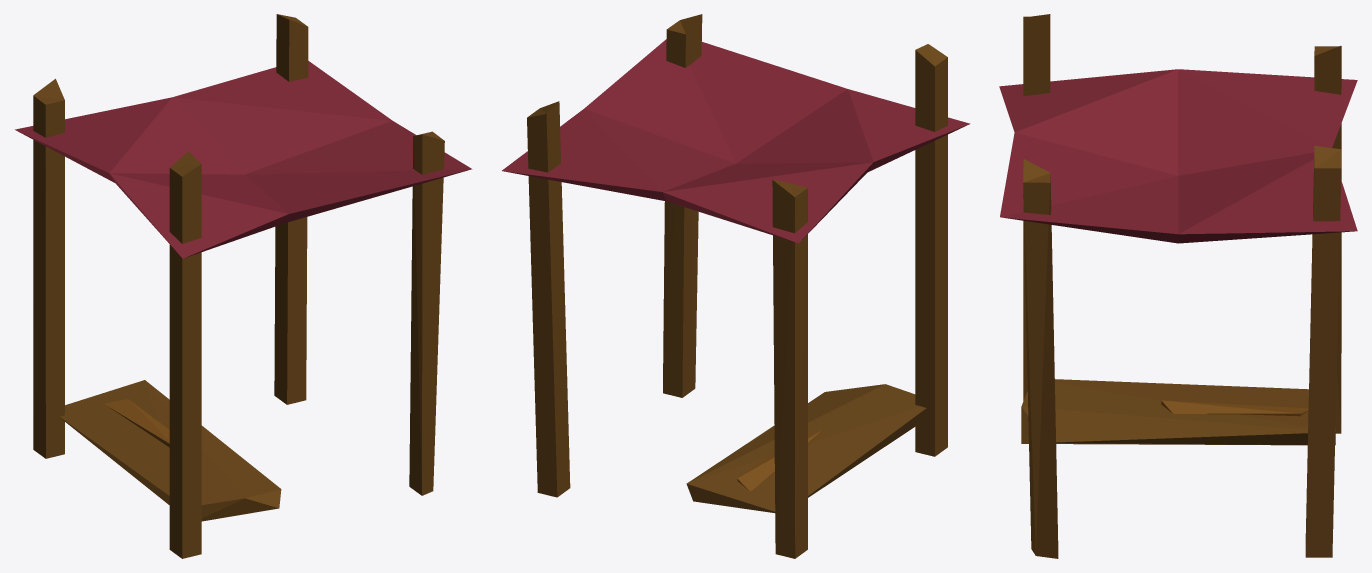
The model's file is Flat_Tent_02.fbx.
3 views of the same model, side by side, from view 1: azimuth 30°, elevation 25°; view 2: azimuth 150°, elevation 25°; view 3: azimuth 270°, elevation 25° (orthographic). The views are drawn at different scales.
Visible parts, largest first — view 1: Tent_02; view 2: Tent_02; view 3: Tent_02.
Part boxes in pixels (x1,y1,x2,y2): Tent_02: (15,14,472,558); Tent_02: (502,14,970,558); Tent_02: (999,14,1357,558).
Size of the model in its own units: 369 by 473 by 366.
